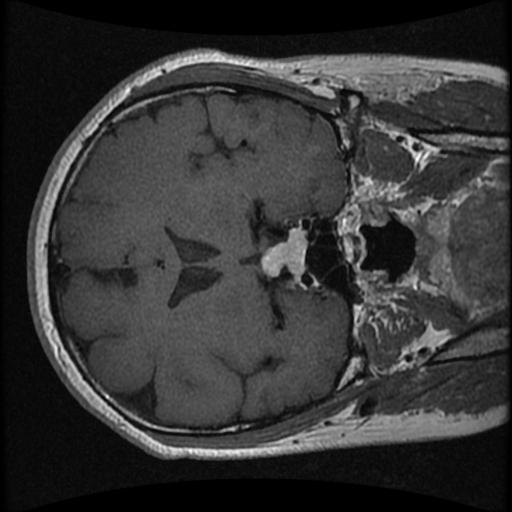pituitary tumour: (262, 231, 305, 277)
